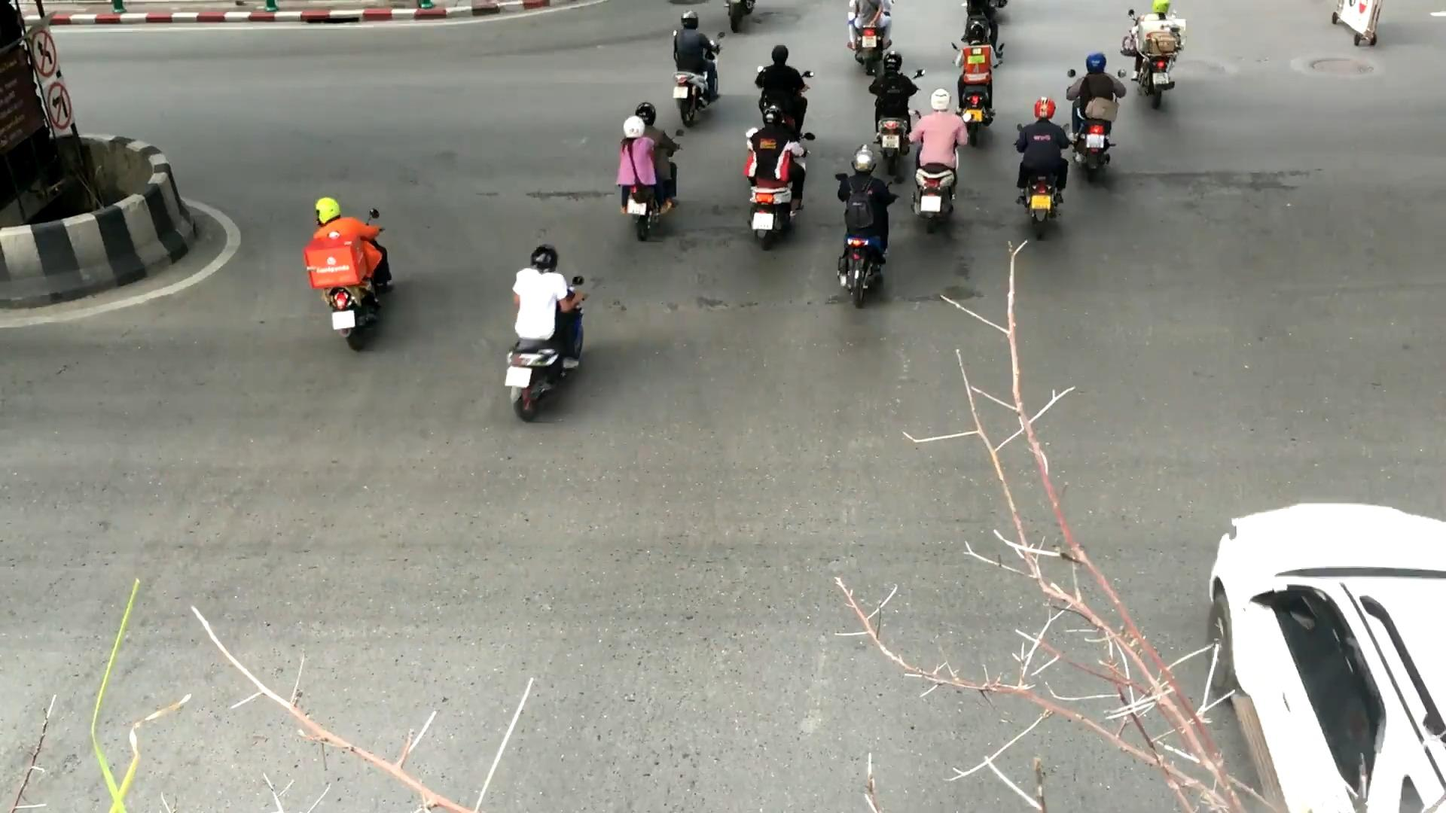driver: (504, 244, 584, 423), (304, 197, 392, 351), (835, 144, 906, 309), (746, 105, 815, 251), (615, 102, 684, 242), (908, 88, 971, 234), (1013, 97, 1070, 242), (1066, 52, 1127, 184), (1120, 0, 1187, 110), (869, 50, 925, 177), (951, 20, 1005, 148), (673, 10, 726, 128), (755, 45, 813, 143), (847, 0, 893, 76)
helmet: (531, 244, 558, 275), (851, 144, 877, 174), (316, 196, 341, 227), (635, 101, 656, 127), (1034, 97, 1056, 119), (624, 115, 645, 138), (930, 88, 951, 111), (966, 20, 986, 44), (1086, 53, 1106, 74), (763, 105, 782, 127), (883, 50, 902, 72), (681, 10, 699, 30), (772, 45, 788, 63), (1151, 0, 1171, 14)
